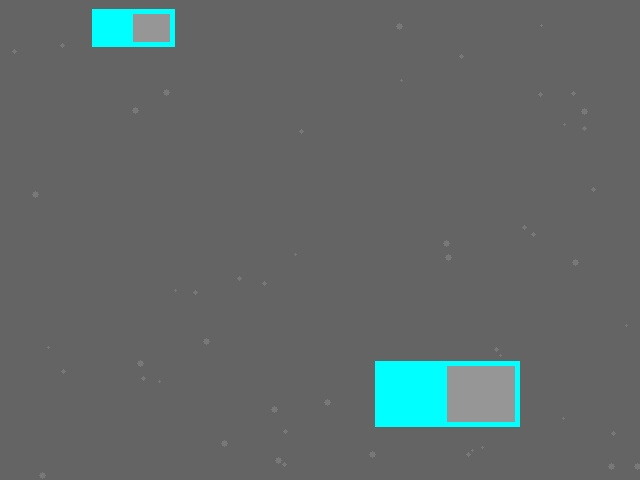truck: (375, 361, 519, 426), (92, 9, 174, 46)
